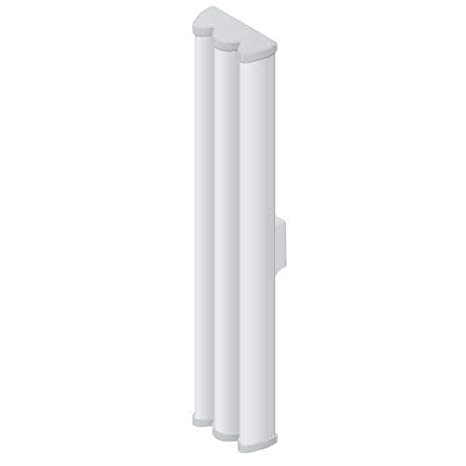sa: (167, 1, 297, 455)
